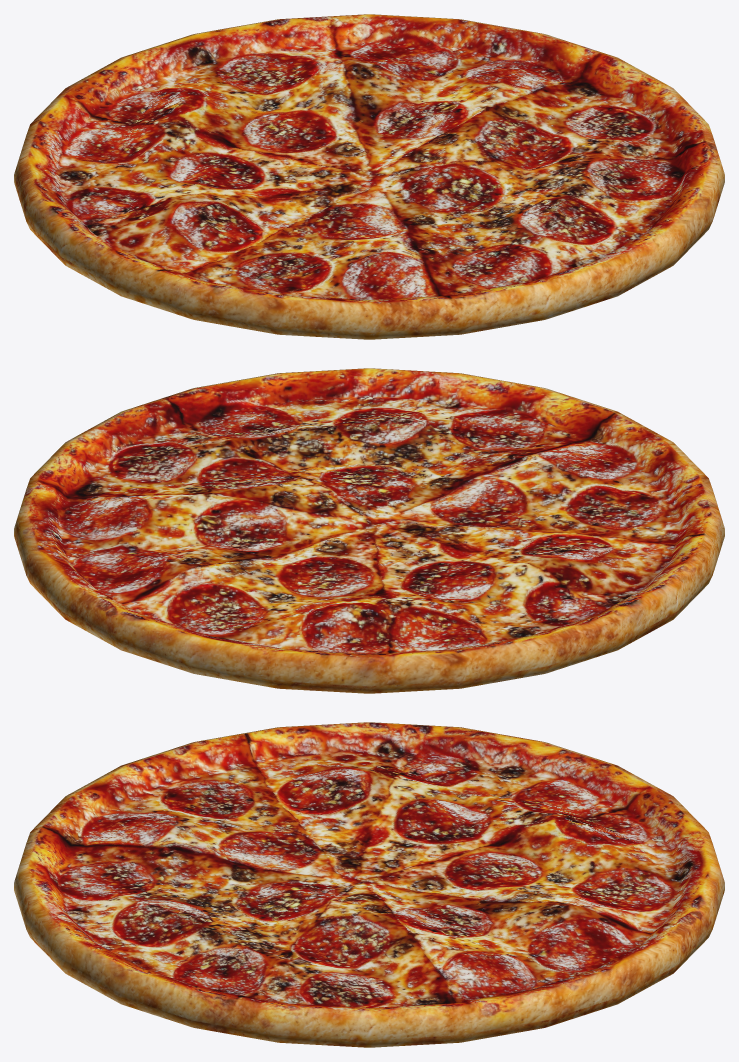
Rendered from Pizza.fbx.
3 renders of one model, top to bottom at view 1: azimuth 30°, elevation 25°; view 2: azimuth 150°, elevation 25°; view 3: azimuth 270°, elevation 25°, orthographic.
Parts seen in each view (by area): view 1: Pizza; view 2: Pizza; view 3: Pizza.
Part boxes in pixels (box(x1,y1,x2,y2)): Pizza: box(14, 14, 724, 339); Pizza: box(14, 368, 724, 693); Pizza: box(14, 722, 724, 1047).
Bounding box in the file's own units: 29.78 × 1.79 × 29.78.
Materials: 1 (1 with a texture image).
